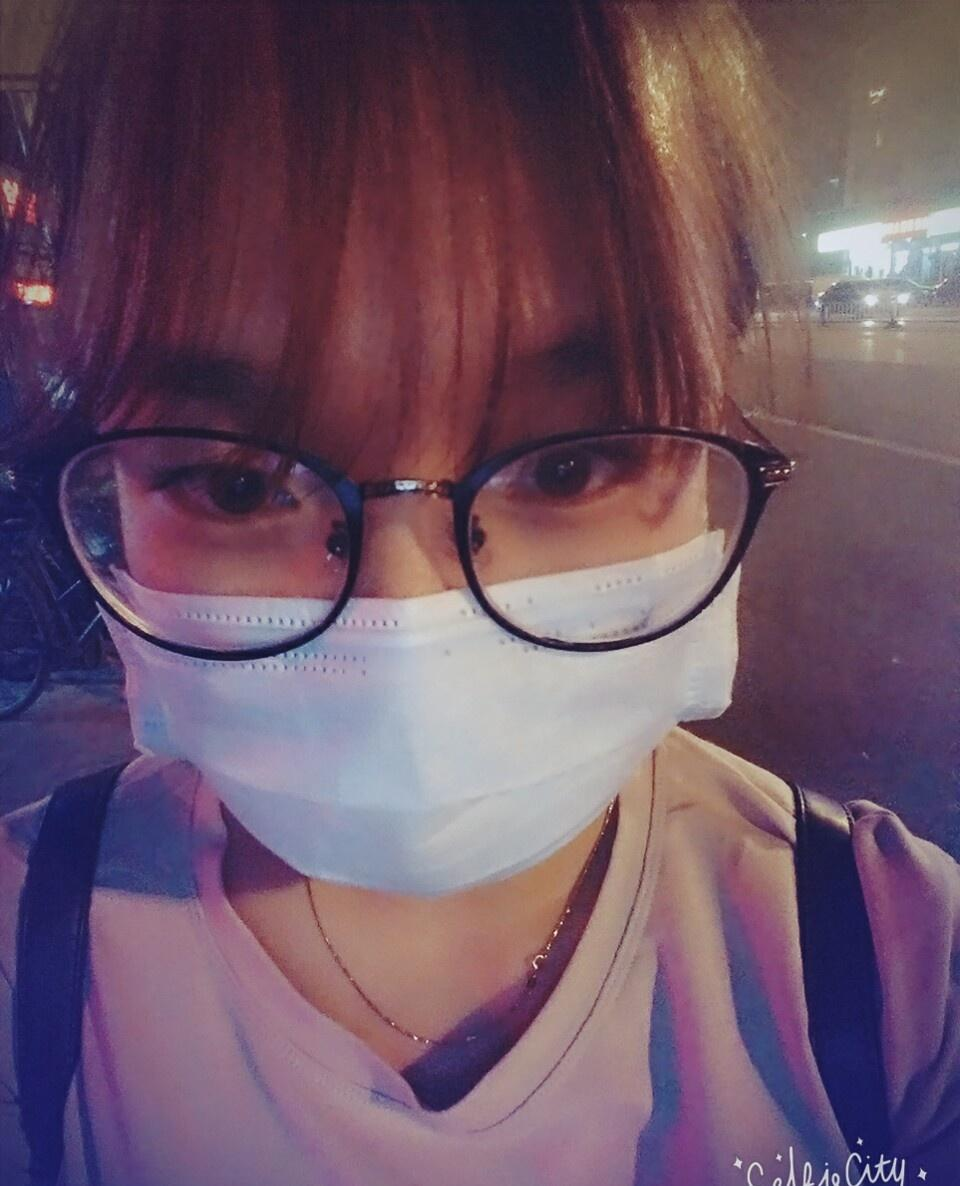OK: (93, 271, 720, 898)
